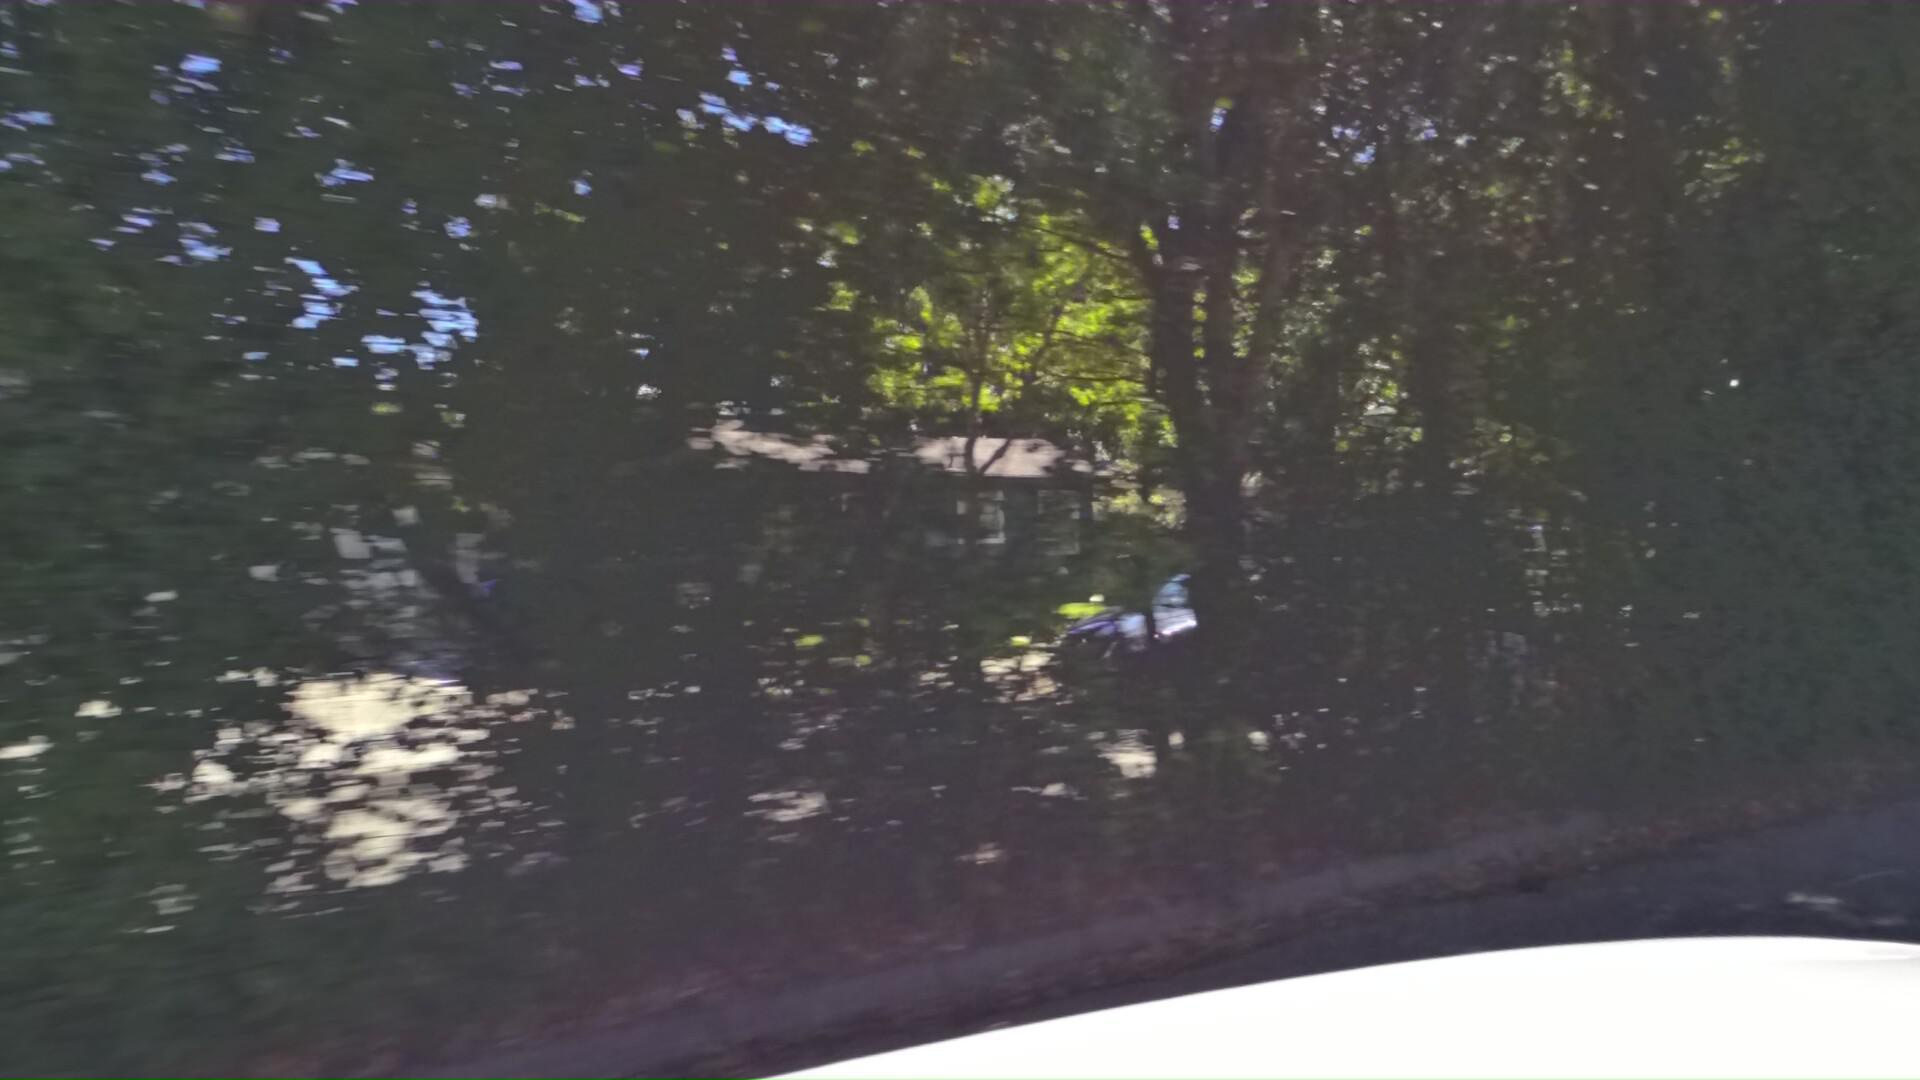car: (1058, 549, 1482, 740), (0, 517, 111, 727)
